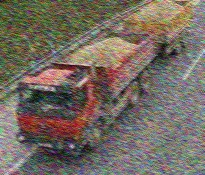truck: (16, 0, 194, 156)
